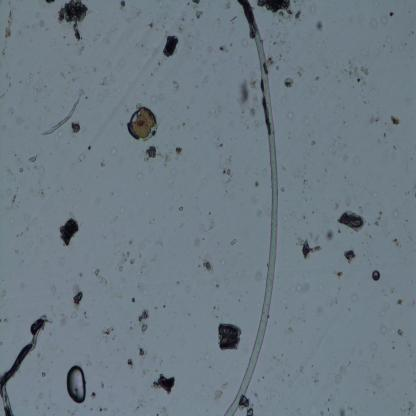Air bubble: (66, 364, 89, 404), (371, 268, 382, 284)
Background material: (58, 0, 89, 41), (236, 76, 262, 118), (258, 0, 306, 22), (55, 214, 81, 250), (217, 320, 241, 354), (336, 209, 368, 233), (345, 58, 370, 88), (152, 370, 176, 395), (143, 145, 171, 166), (136, 304, 151, 337), (299, 238, 320, 261), (161, 31, 180, 55), (68, 283, 82, 315), (91, 266, 110, 289), (223, 155, 236, 188), (118, 250, 136, 273), (4, 9, 13, 46), (7, 190, 22, 210), (203, 257, 217, 275), (241, 396, 253, 416), (344, 247, 358, 263), (126, 357, 138, 375), (282, 74, 295, 90), (103, 326, 115, 343), (392, 238, 404, 252), (388, 114, 402, 126), (136, 346, 148, 358), (315, 18, 324, 34), (26, 154, 38, 164), (218, 45, 231, 54), (325, 230, 335, 241), (193, 10, 205, 18), (398, 328, 405, 338), (396, 298, 404, 306), (339, 408, 347, 415), (147, 22, 154, 30), (119, 1, 128, 7), (192, 0, 202, 5), (45, 0, 56, 4), (390, 10, 394, 18), (314, 76, 320, 81)
Cellulose filter fibre: (0, 313, 49, 414), (39, 100, 80, 136)
Diatom: (130, 107, 157, 142)
Microfibre: (221, 1, 279, 415)
